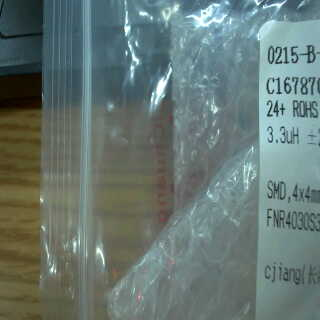3.3uH: (265, 120, 300, 153)
